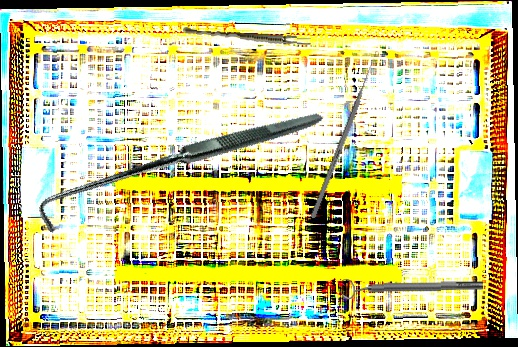Fixation Ring: (341, 274, 484, 301)
Hook Surgical: (32, 28, 325, 313)
Pusher: (310, 57, 377, 219)
Tissue Forceps: (182, 26, 312, 47)
